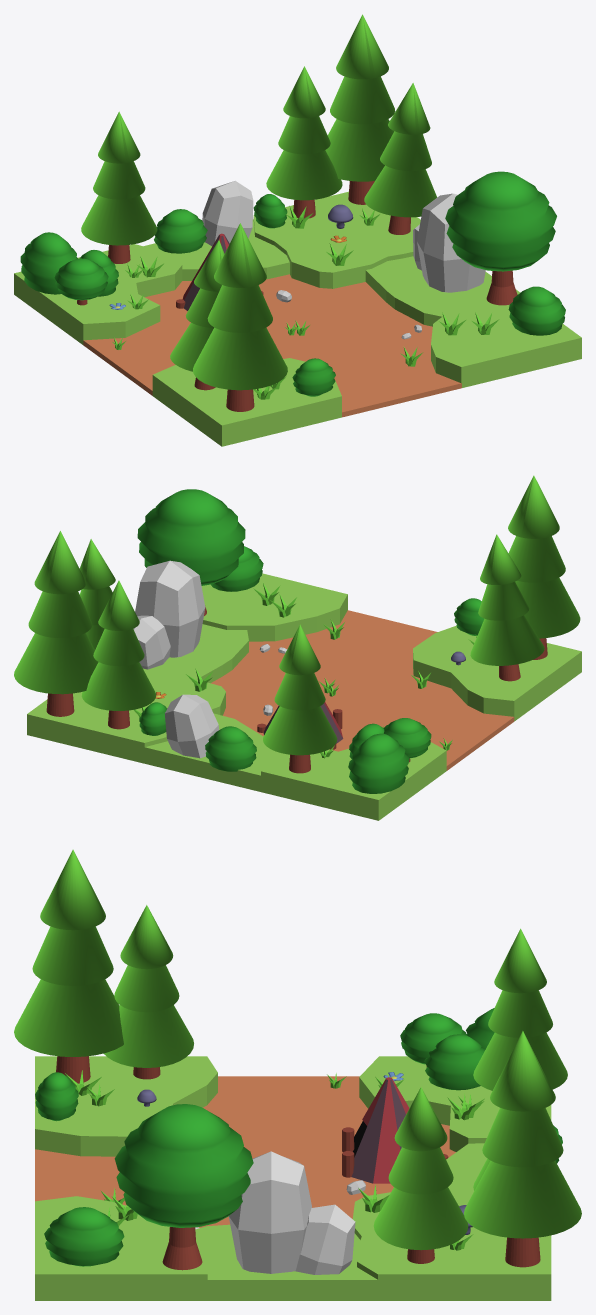
File: jungle level set - 2 Way (4).fbx
3 renders of one model, top to bottom at view 1: azimuth 30°, elevation 25°; view 2: azimuth 150°, elevation 25°; view 3: azimuth 270°, elevation 25°, orthographic. The views are drawn at different scales.
Parts seen in each view (by area): view 1: land_platform, tree_006, tree_003, tree_001, tree_007, tree, tree_002, stone, tree_005, stone_004, bush_003, bush (+6 smaller); view 2: land_platform, tree_001, tree_003, tree_006, tree_007, tree, tree_005, stone, bush_003, stone_004, tree_002, bush_005 (+7 smaller); view 3: land_platform, tree_001, tree_003, tree_006, tree_002, tree_005, stone, tree_007, camp, bush, stone_001, bush_001 (+3 smaller).
Boxes of the visible parts, box(x1,y1,x2,y2) form: land_platform: box(14, 191, 581, 446); tree_006: box(193, 223, 287, 411); tree_003: box(445, 171, 556, 305); tree_001: box(325, 14, 395, 204); tree_007: box(81, 111, 157, 263); tree: box(266, 66, 342, 218); tree_002: box(364, 83, 436, 234); stone: box(417, 193, 485, 292); tree_005: box(170, 240, 224, 390); stone_004: box(202, 180, 253, 246); bush_003: box(20, 232, 77, 294); bush: box(508, 286, 565, 335); land_platform: box(27, 573, 581, 820); tree_001: box(14, 531, 98, 716); tree_003: box(137, 489, 245, 615); tree_006: box(508, 475, 580, 659); tree_007: box(263, 624, 337, 773); tree: box(81, 580, 155, 729); tree_005: box(470, 534, 544, 681); stone: box(135, 560, 205, 657); bush_003: box(348, 733, 409, 793); stone_004: box(164, 694, 219, 758); tree_002: box(79, 539, 115, 649); bush_005: box(205, 726, 256, 771); land_platform: box(35, 1056, 551, 1300); tree_001: box(464, 1031, 581, 1267); tree_003: box(114, 1104, 253, 1270); tree_006: box(14, 849, 123, 1083); tree_002: box(373, 1087, 468, 1263); tree_005: box(103, 905, 193, 1079); stone: box(228, 1151, 312, 1273); tree_007: box(473, 928, 567, 1090); camp: box(342, 1077, 448, 1183); bush: box(44, 1207, 124, 1266); stone_001: box(294, 1204, 355, 1274); bush_001: box(424, 1034, 485, 1090).
Size of the model in its own units: 16.66 by 8.75 by 16.7.
